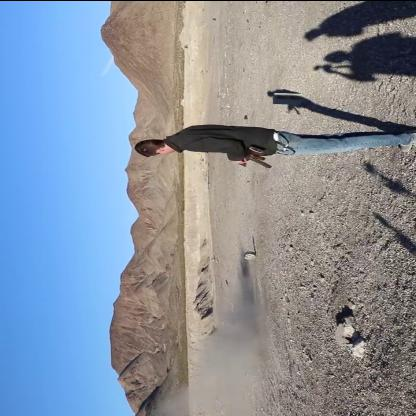long weapon: (234, 144, 278, 172)
